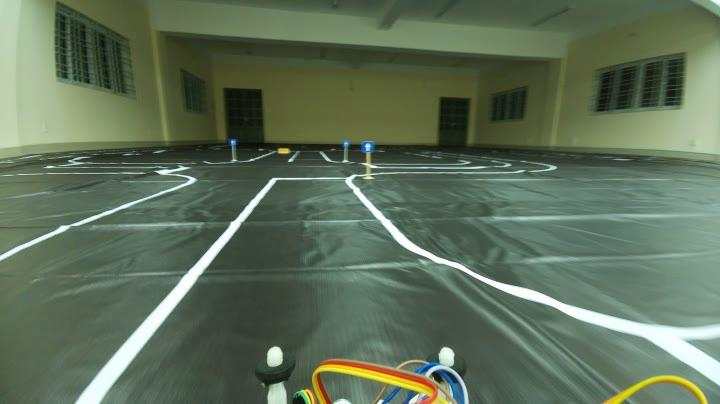onewayroad: (360, 139, 372, 155), (229, 136, 236, 145), (342, 140, 350, 147)
roadblock: (276, 145, 292, 155)
